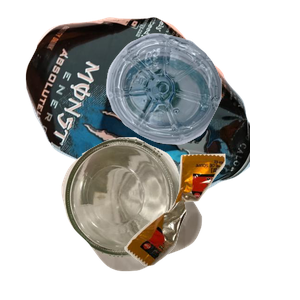glass: (59, 135, 254, 300)
metal: (23, 15, 263, 195)
plastic: (104, 31, 300, 168)
trash: (122, 151, 300, 300)
